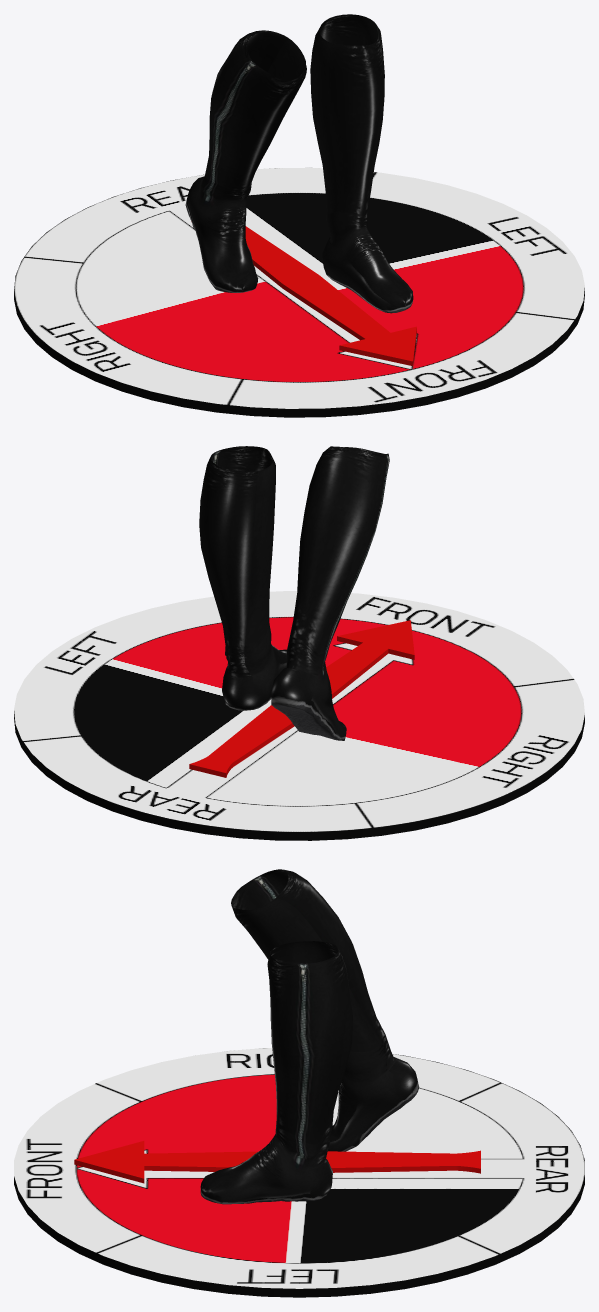
The model's file is Compass.fbx.
3 views of the same model, one above another, from view 1: azimuth 30°, elevation 25°; view 2: azimuth 150°, elevation 25°; view 3: azimuth 270°, elevation 25° (orthographic).
Visible parts, largest first — view 1: Compass, Legs, Arrow; view 2: Compass, Legs, Arrow; view 3: Compass, Legs, Arrow.
Part boxes in pixels (bbox=[...]): Compass: bbox=[14, 167, 584, 417]; Legs: bbox=[185, 14, 413, 313]; Arrow: bbox=[191, 221, 416, 366]; Compass: bbox=[14, 591, 584, 840]; Legs: bbox=[199, 446, 389, 740]; Arrow: bbox=[189, 620, 414, 777]; Compass: bbox=[14, 1048, 584, 1297]; Legs: bbox=[200, 869, 419, 1204]; Arrow: bbox=[74, 1141, 480, 1183].
Size of the model in its own units: 99.78 by 53.99 by 99.58.
Materials: 3 (2 with a texture image).
